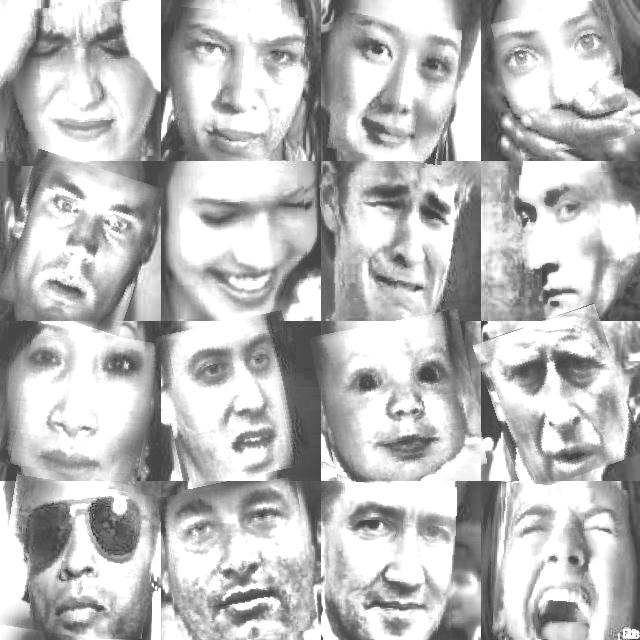angry: (483, 312, 634, 486), (6, 1, 156, 164), (494, 484, 627, 640), (168, 9, 306, 159)
fear: (1, 158, 155, 328), (498, 4, 628, 154)
happy: (316, 316, 481, 486), (161, 316, 307, 484), (162, 481, 313, 640), (4, 325, 154, 481), (325, 482, 455, 640), (173, 172, 309, 318), (331, 16, 458, 161)
neutral: (0, 479, 157, 640), (502, 173, 620, 317)
sad: (321, 168, 471, 318)
